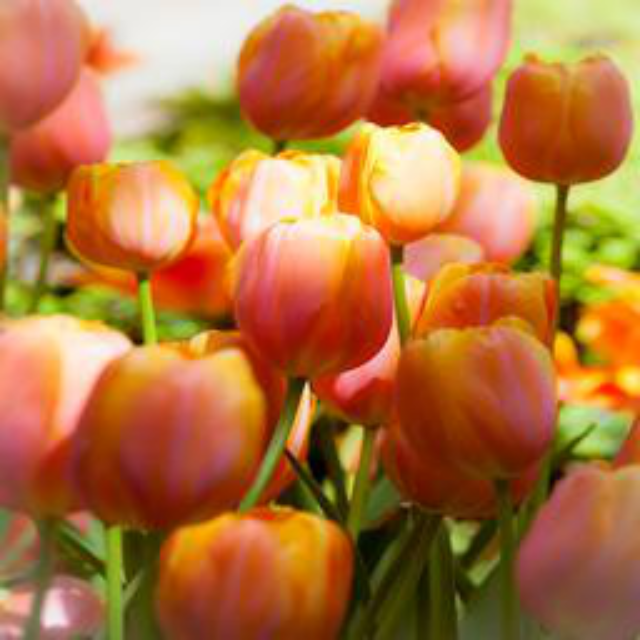tulip: (74, 324, 286, 538), (3, 308, 135, 556), (222, 217, 395, 405), (392, 315, 565, 502), (150, 501, 355, 631), (236, 3, 386, 156), (501, 42, 635, 202), (60, 158, 201, 302), (382, 2, 514, 127), (338, 123, 462, 252)
